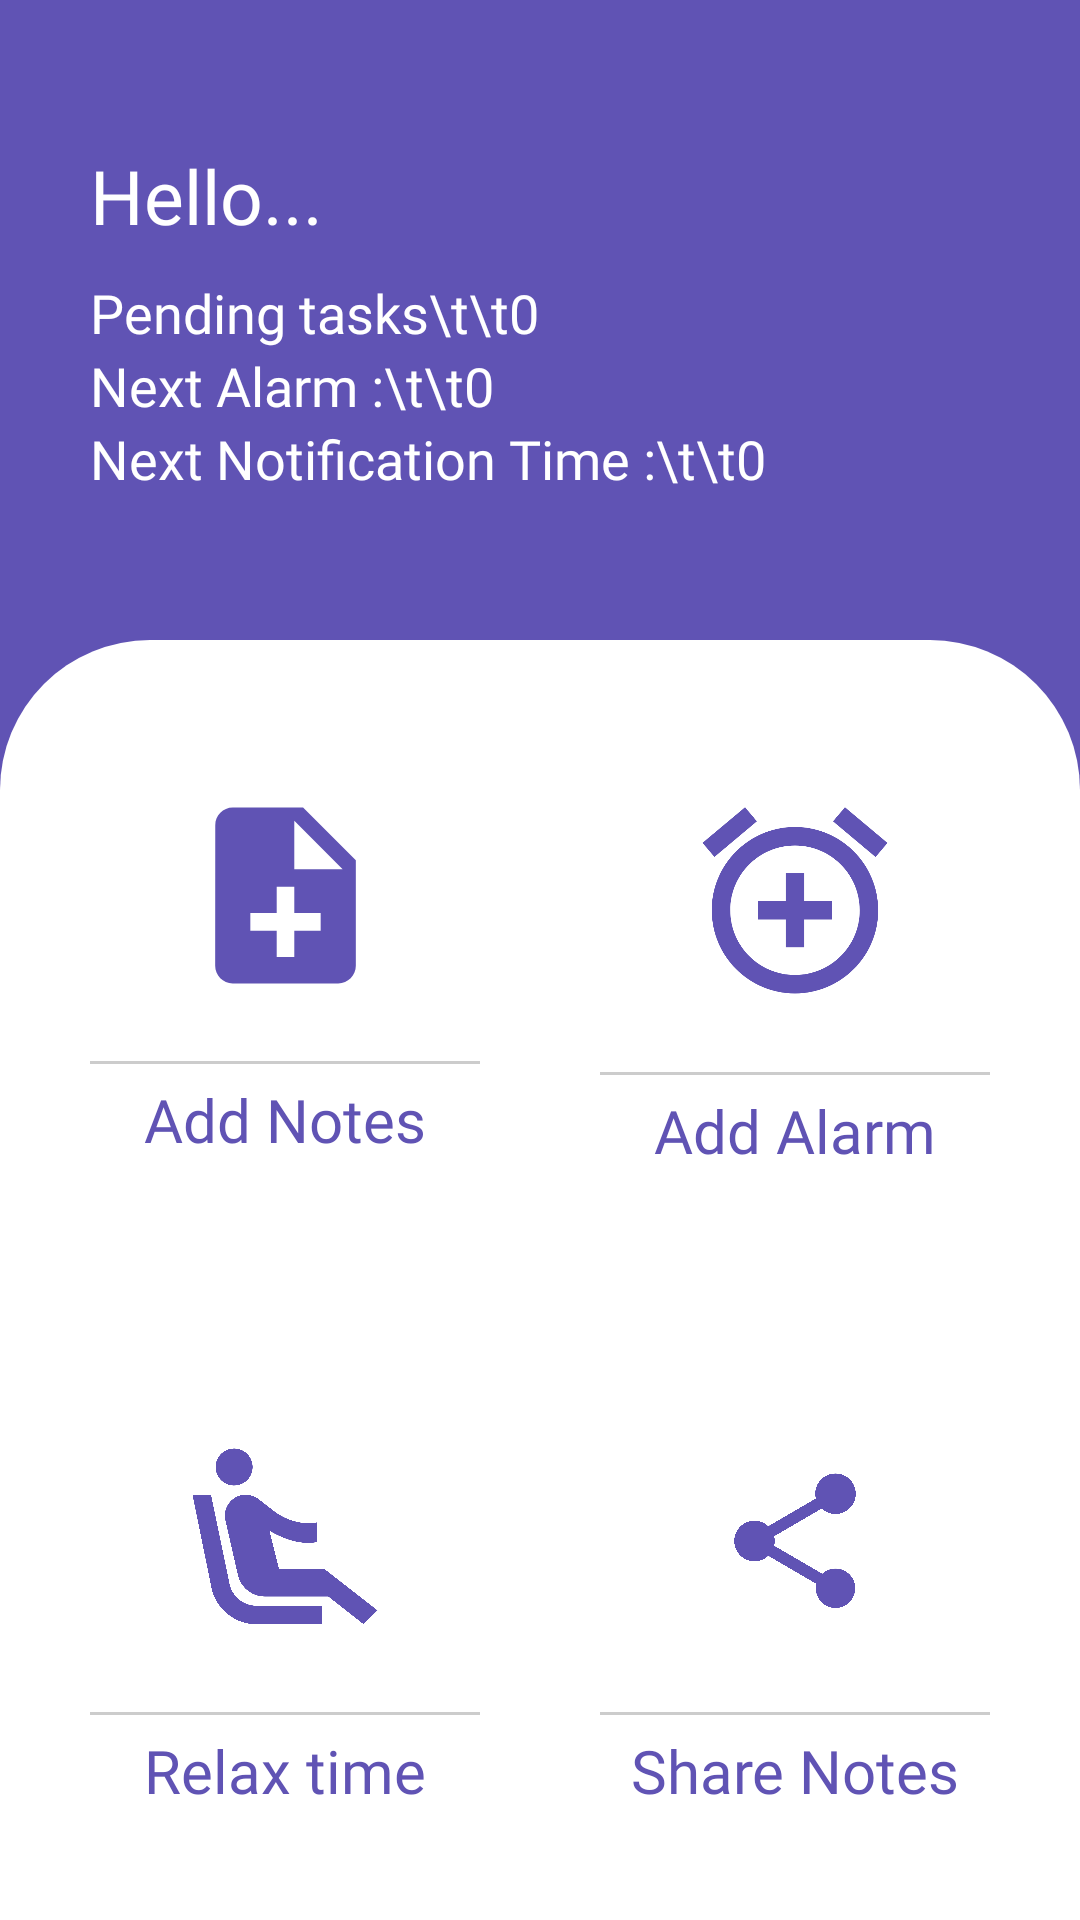

Where icons sit on this 1080w x 1920h app screen, as (x1, y1, x2, y2):
airline seat recline extra: (193, 1448, 377, 1624)
note add: (215, 807, 356, 984)
